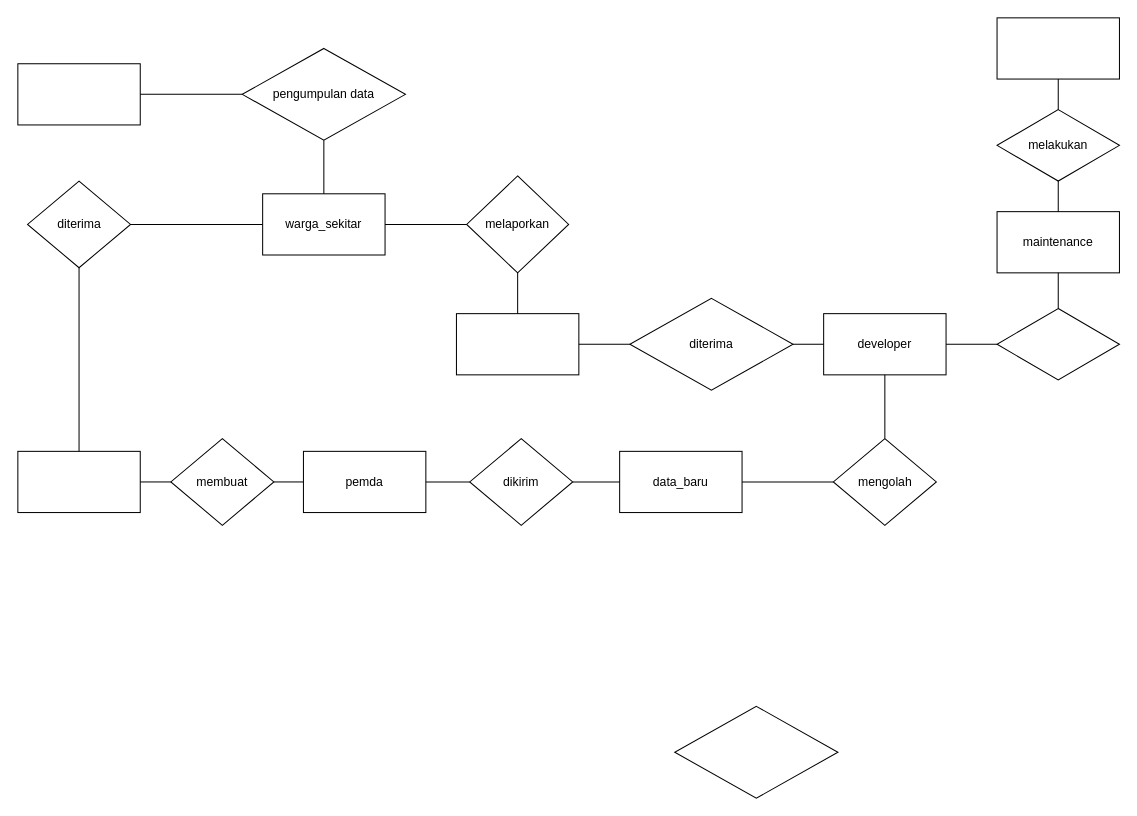
This 1137x816 diagram has some shape labels left out. Here are the shapes that lost their labels. From the top down, the box of each, then its label:
(996, 17, 1119, 79): programmer
(17, 63, 140, 125): sungai
(455, 313, 579, 375): data_laporan
(996, 308, 1119, 380): meminta
(17, 450, 140, 513): surat_penyuluhan
(674, 705, 838, 798): input data
